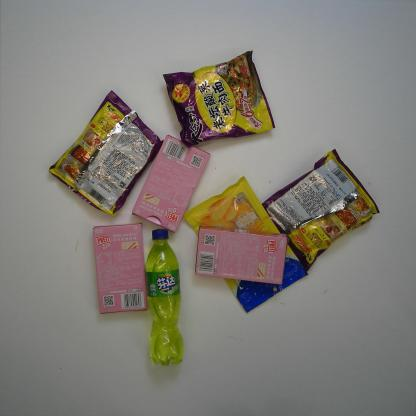Dessert: (130, 134, 212, 235), (193, 224, 290, 286), (92, 222, 149, 314)
Dried Fruit: (182, 175, 308, 314)
Drink: (144, 227, 184, 368)
Instant Noodles: (46, 89, 164, 218), (261, 148, 381, 272), (162, 48, 276, 150)
